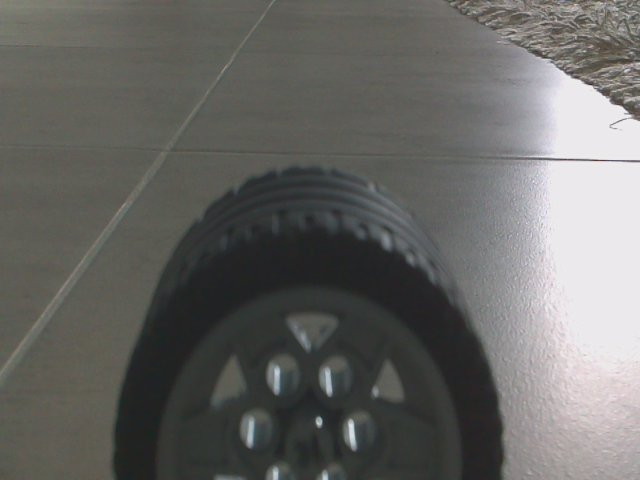Rad: (110, 159, 508, 477)
